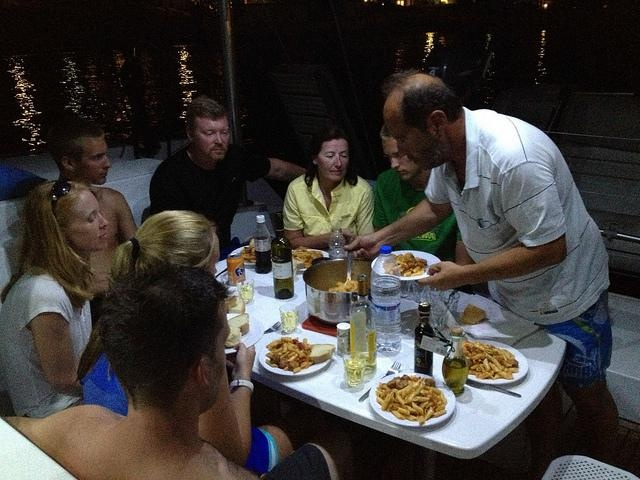person: (381, 64, 623, 456), (7, 267, 302, 480), (3, 176, 109, 415), (149, 93, 311, 233), (366, 128, 474, 273), (273, 131, 381, 252), (42, 120, 137, 244)
